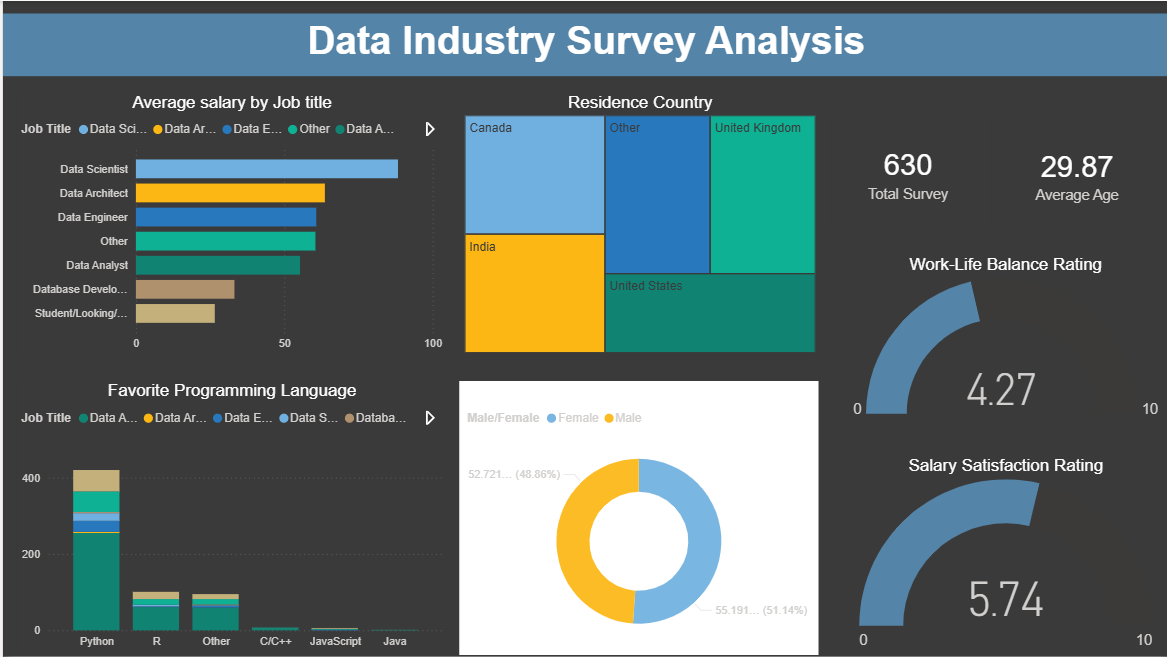

What the dashboard file says about the page in this screenshot:
{"tool":"powerbi","page":{"name":"Data Professional Survey","canvas":[1280,720],"ordinal":0},"visuals":[{"type":"textbox","box":[0,13.5,1280.3,69],"z":0},{"type":"card","title":"Total Survey","fields":{"Values":["CountNonNull(Data Professional Survey.Unique ID)"]},"box":[909.6,126.1,168.1,124.6],"z":1000},{"type":"card","fields":{"Values":["Avg(Data Professional Survey.Q10 - Current Age)"]},"box":[1100.2,127.6,157.6,124.6],"z":2000},{"type":"barChart","title":"Average salary by Job title","fields":{"Category":["Data Professional Survey.Q1 - Which Title Best Fits your Current Role?.1"],"Y":["Avg(Data Professional Survey.Average Salary)"],"Series":["Data Professional Survey.Q1 - Which Title Best Fits your Current Role?.1"]},"box":[15,100.6,472.8,291.2],"z":3000},{"type":"columnChart","title":"Favorite Programming Language","fields":{"Category":["Data Professional Survey.Q5 - Favorite Programming Language.1"],"Y":["CountNonNull(Data Professional Survey.Unique ID)"],"Series":["Data Professional Survey.Q1 - Which Title Best Fits your Current Role?.1"]},"box":[15,417.3,472.8,301.7],"z":4000},{"type":"treemap","title":"Residence Country","fields":{"Group":["Data Professional Survey.Q11 - Which Country do you live in?.1"],"Values":["Count(Data Professional Survey.Q11 - Which Country do you live in?.1)"]},"box":[502.8,100.6,394.7,291.2],"z":5000},{"type":"gauge","title":"Work-Life Balance Rating","fields":{"Y":["Avg(Data Professional Survey.Q6 - How Happy are you in your Current Position with the following? (Salary))"],"MinValue":["Min(Data Professional Survey.Q6 - How Happy are you in your Current Position with the following? (Salary))"],"MaxValue":["Max(Data Professional Survey.Q6 - How Happy are you in your Current Position with the following? (Salary))"]},"box":[920.1,279.2,360.2,184.6],"z":6000},{"type":"gauge","title":"Salary Satisfaction Rating","fields":{"Y":["Avg(Data Professional Survey.Q6 - How Happy are you in your Current Position with the following? (Work/Life Balance))"],"MinValue":["Min(Data Professional Survey.Q6 - How Happy are you in your Current Position with the following? (Work/Life Balance))"],"MaxValue":["Max(Data Professional Survey.Q6 - How Happy are you in your Current Position with the following? (Work/Life Balance))"]},"box":[920.1,499.8,360.2,219.1],"z":7000},{"type":"donutChart","title":"Average Salary by Gender","fields":{"Category":["Data Professional Survey.Q9 - Male/Female?"],"Y":["Avg(Data Professional Survey.Average Salary)"]},"box":[501.3,417.3,394.7,301.7],"z":8000}]}

Visuals, with their boxes in screenshot pixels (x1, y1, x2, y2), scaled from the page's 1280x720 canvas onto the 1167x657 screenshot:
textbox: [0, 12, 1166, 75]
"Total Survey" card: [829, 115, 983, 229]
card - Avg(Data Professional Survey.Q10 - Current Age): [1003, 116, 1147, 230]
"Average salary by Job title" barChart: [14, 92, 445, 358]
"Favorite Programming Language" columnChart: [14, 381, 445, 656]
"Residence Country" treemap: [458, 92, 818, 358]
"Work-Life Balance Rating" gauge: [839, 255, 1166, 423]
"Salary Satisfaction Rating" gauge: [839, 456, 1166, 656]
"Average Salary by Gender" donutChart: [457, 381, 817, 656]
